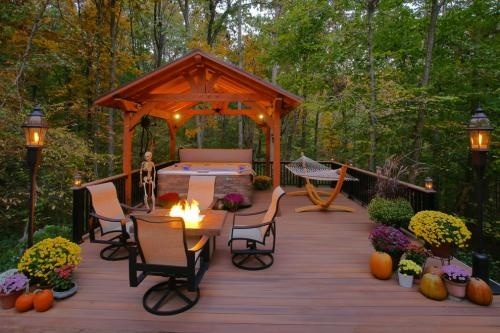fire: (167, 198, 204, 226), (29, 127, 43, 143)
